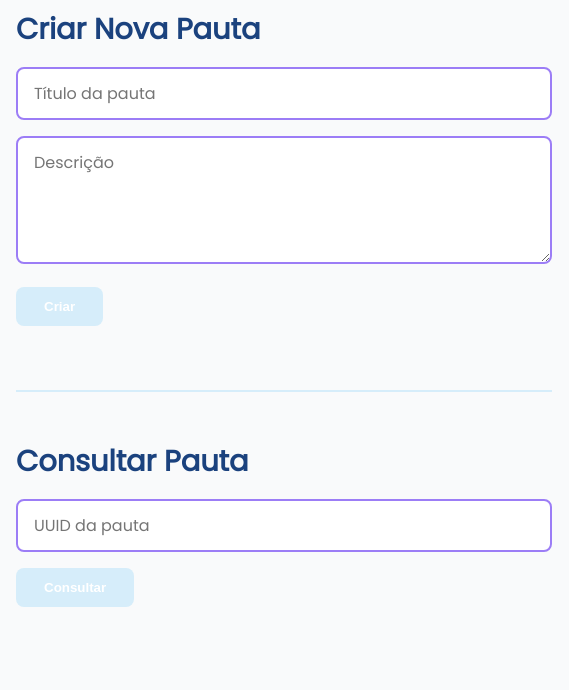
Test case: CreateVotingAgenda › cria pauta com sucesso
Type "Título Teste" into the field with placeholder "Título da pauta". click: (284, 94)
box: [16, 67, 552, 120]
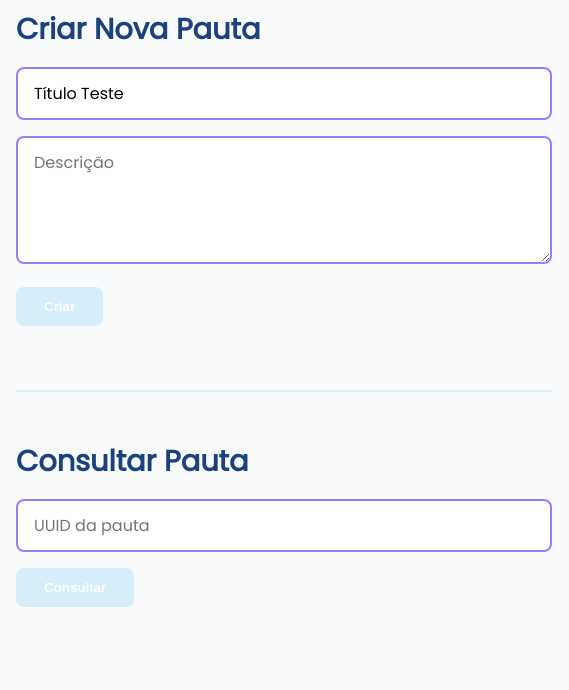
Type "Descrição Teste" into the text box with placeholder "Descrição". click: (284, 200)
box: [16, 136, 552, 264]
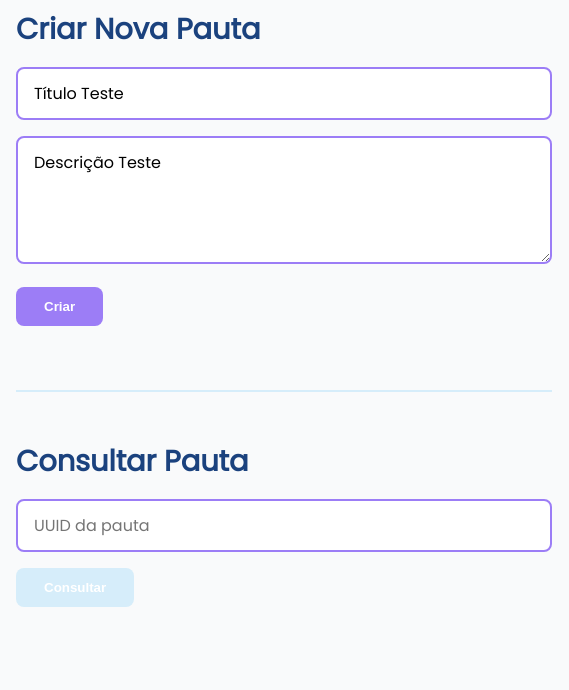
Click the button "Criar". click: (60, 306)
box: [16, 287, 103, 326]
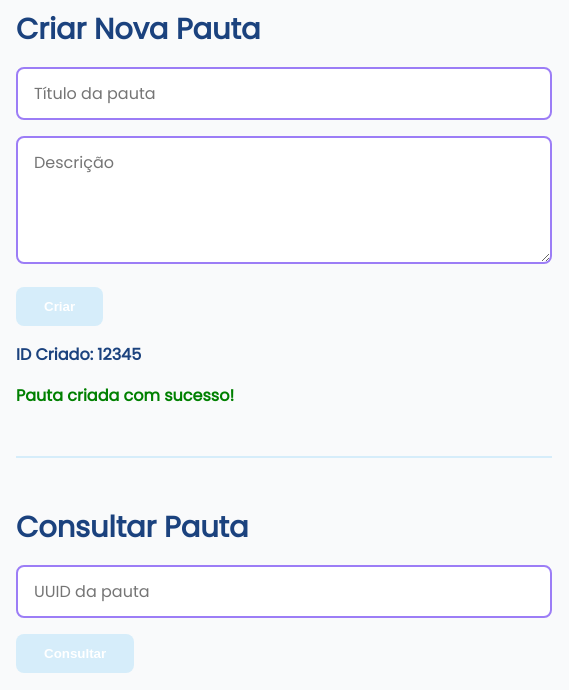
expect the text "Pauta criada com sucesso!" is shown: met, box [16, 384, 234, 407]
expect the text "ID Criado: 12345" is shown: met, box [16, 343, 141, 366]
